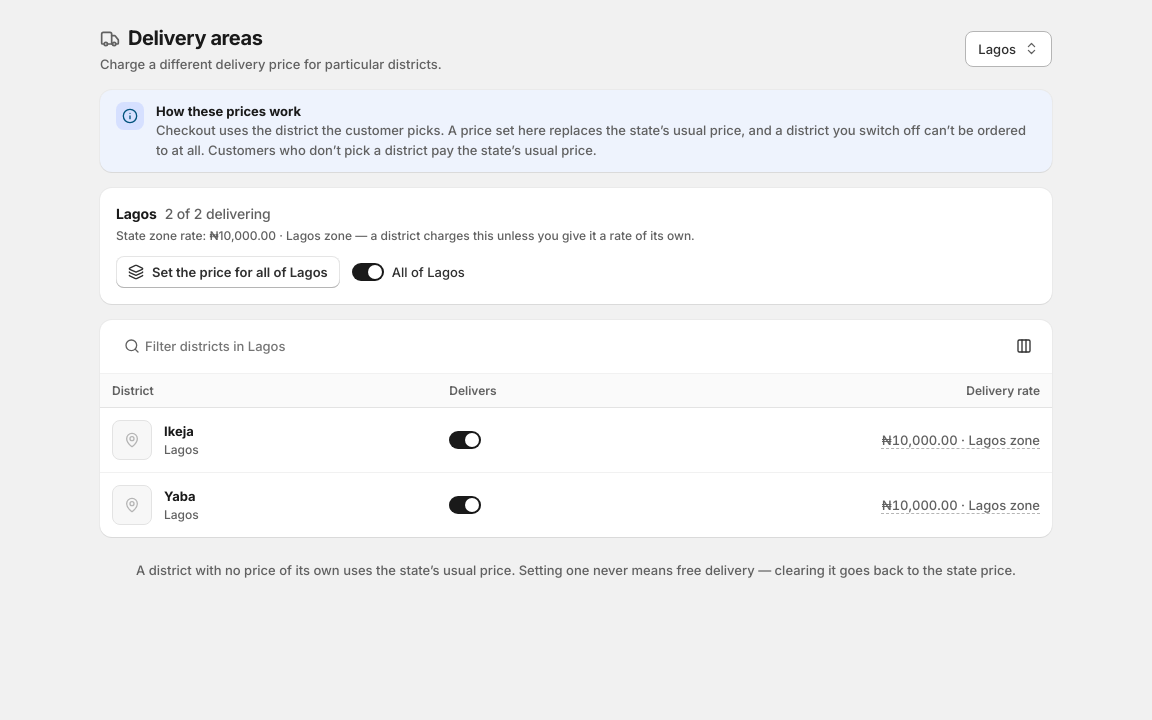
Scenario: the delivery areas board › re-reads the board after a CAS miss instead of retrying blind
The image size is (1152, 720).
Click the switch named "Delivers to Ikeja" in the row of "Ikeja". click: point(465, 440)
box: [449,431,481,449]
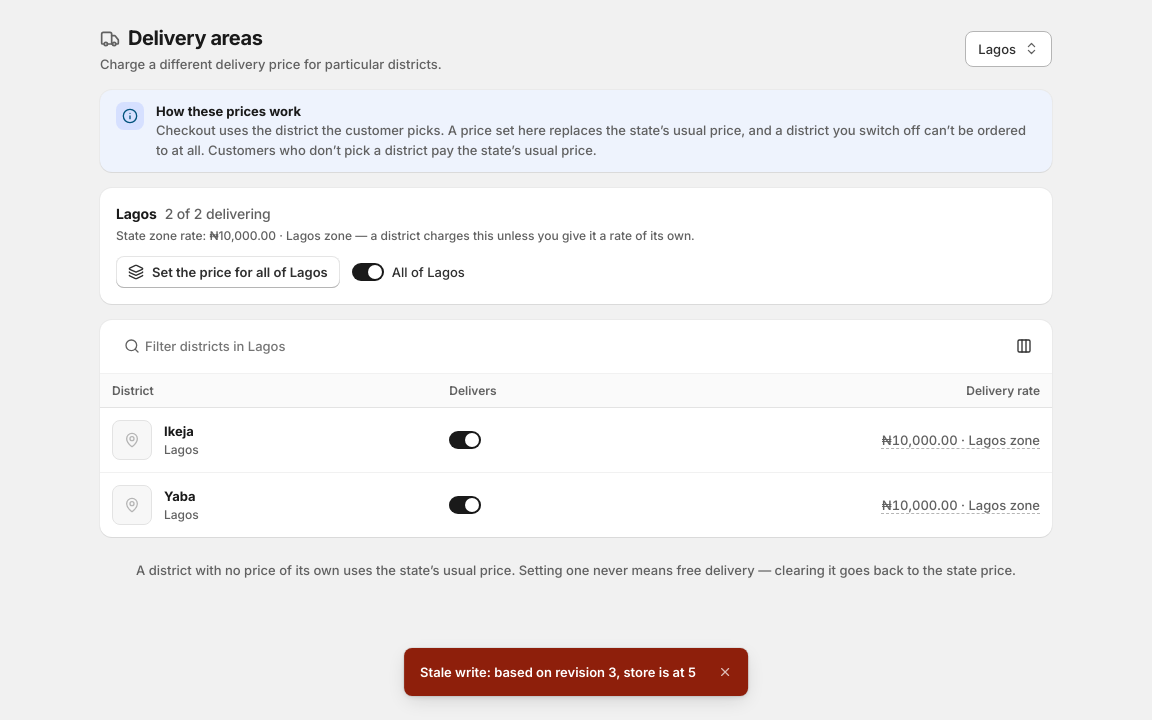
Now the text "Stale write: based on revision 3, store is at 5" is shown, box [420,663,696,681]
